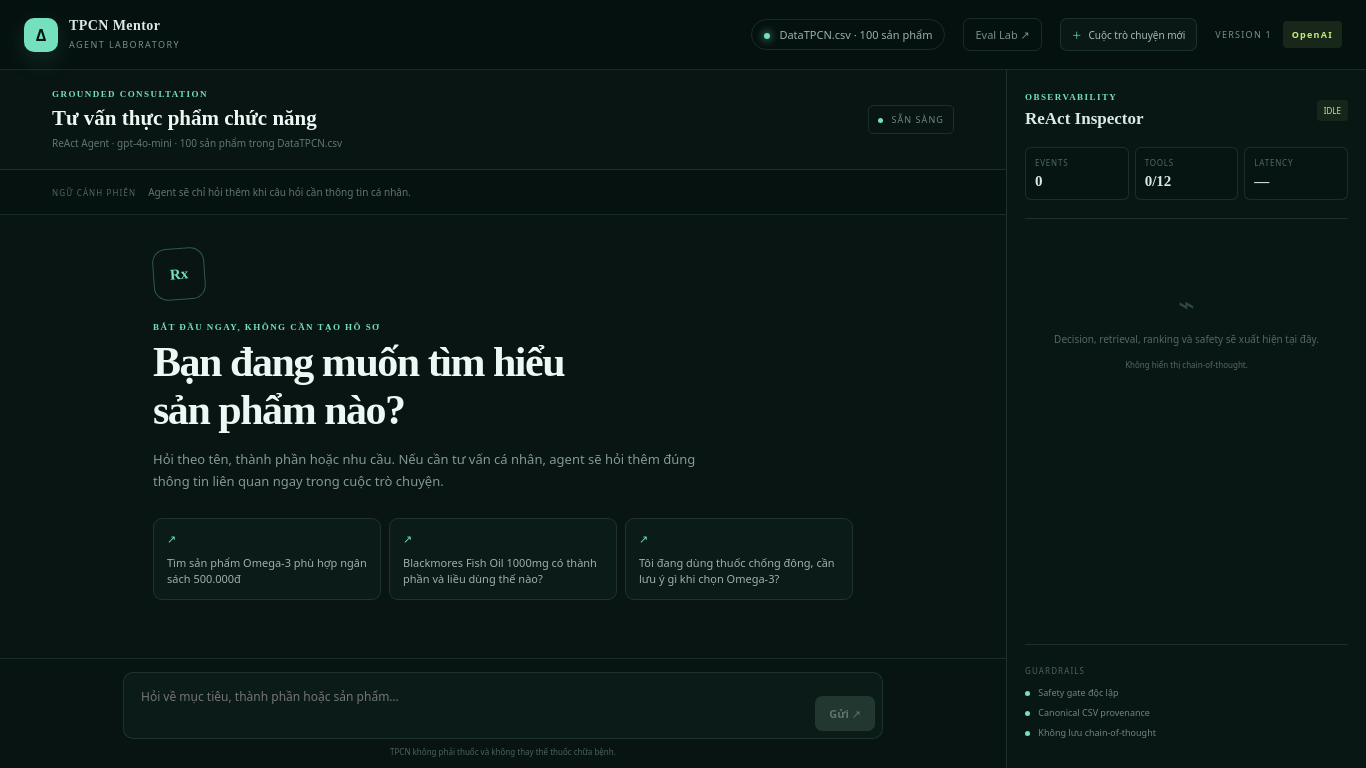
mentor dashboard › fills the composer from a starter question
(page scrolled)
What coordinates should you click on to do the following:
click the button "↗ Tìm sản phẩm Omega-3 phù hợp ngân sách 500.000đ"
I would click on:
 (267, 559)
Its box is [153,518,381,600].
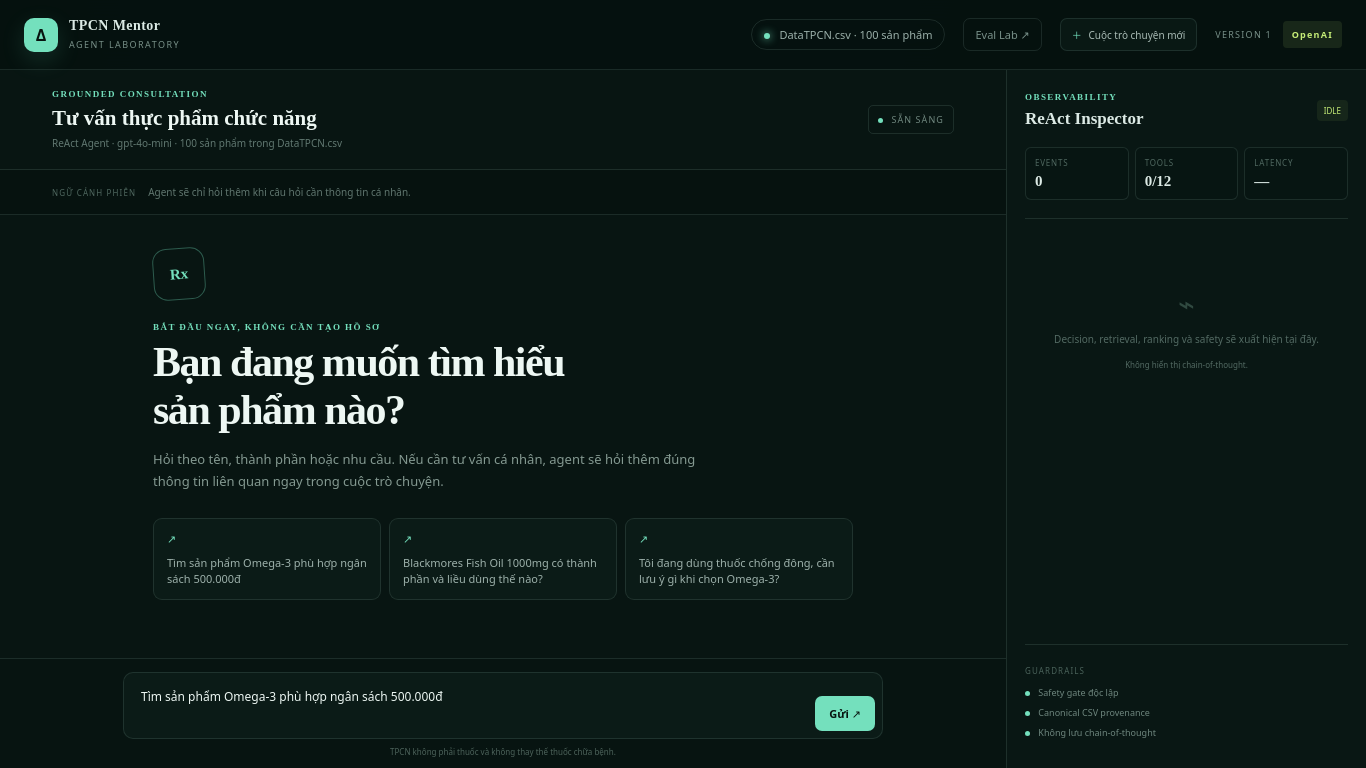
Check: the text box holds "Tìm sản phẩm Omega-3 phù hợp ngân sách 500.000đ", box [131,680,807,731]
